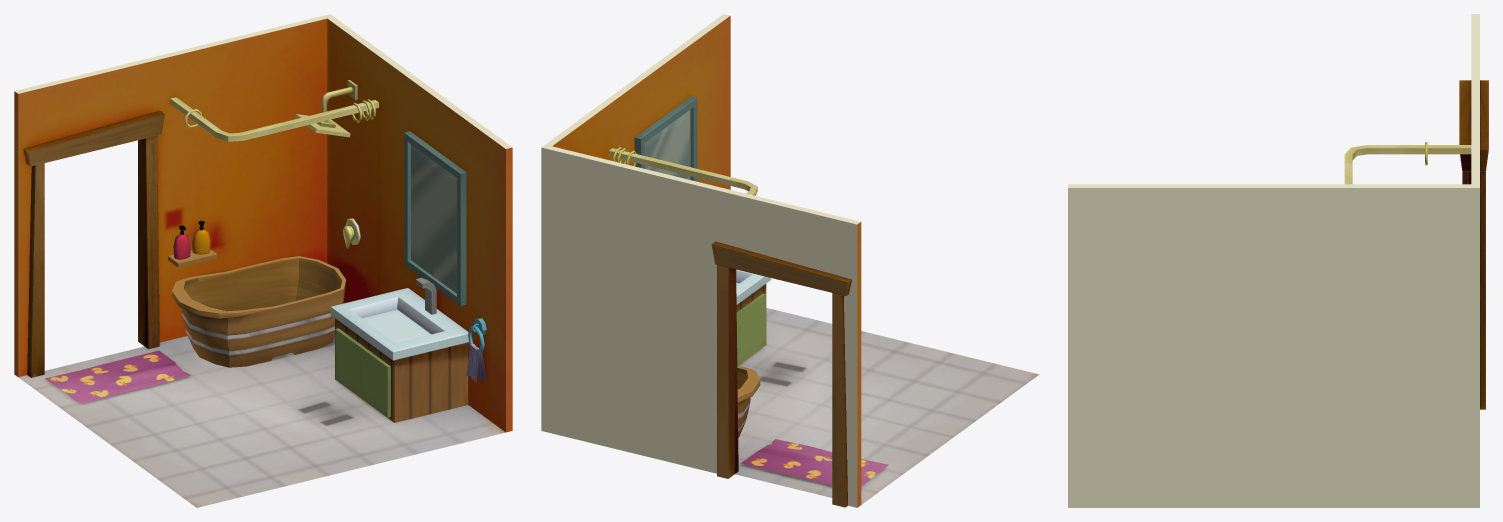
Rendered from bathroom.fbx.
3 renders of one model, left to right at view 1: azimuth 30°, elevation 25°; view 2: azimuth 150°, elevation 25°; view 3: azimuth 270°, elevation 25°, orthographic. The views are drawn at different scales.
Parts seen in each view (by area): view 1: room, bathtub, pasted__sink, mirror, polySurface14, mat, polySurface16, pasted__pCube19, pasted__door_right, pasted__door_left; view 2: room, polySurface14, mirror, mat, polySurface16, pasted__door_right, pasted__pCube19, pasted__sink, bathtub; view 3: room, polySurface16, polySurface14, pasted__pCube19.
Boxes of the visible parts, left/top/right/bottom form: room: left=14, top=14, right=512, bottom=507; bathtub: left=172, top=256, right=345, bottom=367; pasted__sink: left=330, top=288, right=468, bottom=422; mirror: left=404, top=131, right=466, bottom=305; polySurface14: left=27, top=136, right=159, bottom=377; mat: left=45, top=350, right=190, bottom=403; polySurface16: left=23, top=111, right=164, bottom=166; pasted__pCube19: left=170, top=97, right=378, bottom=141; pasted__door_right: left=361, top=347, right=390, bottom=417; pasted__door_left: left=335, top=328, right=364, bottom=397; room: left=541, top=14, right=1039, bottom=507; polySurface14: left=717, top=265, right=847, bottom=507; mirror: left=634, top=96, right=697, bottom=181; mat: left=741, top=439, right=888, bottom=486; polySurface16: left=711, top=241, right=851, bottom=295; pasted__door_right: left=737, top=293, right=765, bottom=363; pasted__pCube19: left=609, top=148, right=757, bottom=195; pasted__sink: left=736, top=269, right=770, bottom=363; bathtub: left=737, top=365, right=760, bottom=437; room: left=1068, top=14, right=1479, bottom=507; polySurface16: left=1459, top=80, right=1488, bottom=171; polySurface14: left=1462, top=172, right=1485, bottom=409; pasted__pCube19: left=1344, top=145, right=1471, bottom=184.
Bounding box in the file's own units: 140 × 120 × 143.
